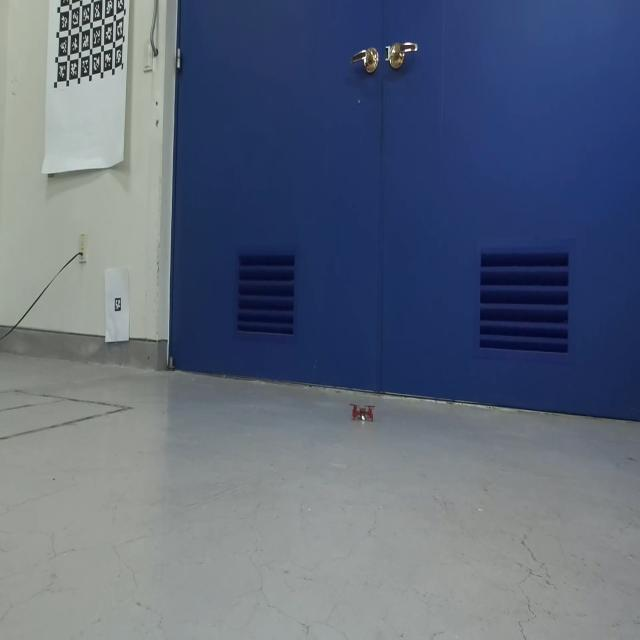crazyflie: (348, 396, 376, 426)
